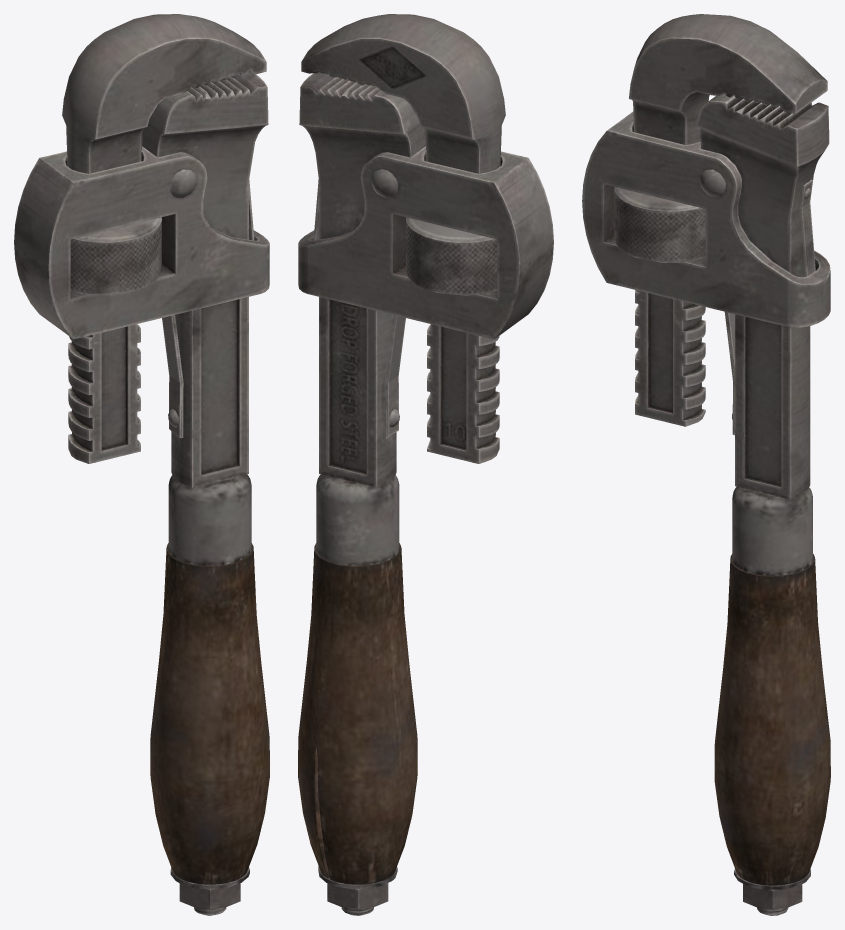
Rendered from adjustable_wrench.glb.
The picture shows the model from 3 angles, left to right: view 1: azimuth 30°, elevation 25°; view 2: azimuth 150°, elevation 25°; view 3: azimuth 330°, elevation 25°; orthographic projection. The views are drawn at different scales.
Parts seen in each view (by area): view 1: adjustable_wrench_jaw; view 2: adjustable_wrench_jaw; view 3: adjustable_wrench_jaw.
Part boxes in pixels (left/top/right/bottom): adjustable_wrench_jaw: left=14, top=14, right=269, bottom=915; adjustable_wrench_jaw: left=298, top=14, right=553, bottom=915; adjustable_wrench_jaw: left=582, top=14, right=830, bottom=915.
Bounding box in the file's own units: 0.0683 × 0.2541 × 0.0306.
1 material, 1 textured.
